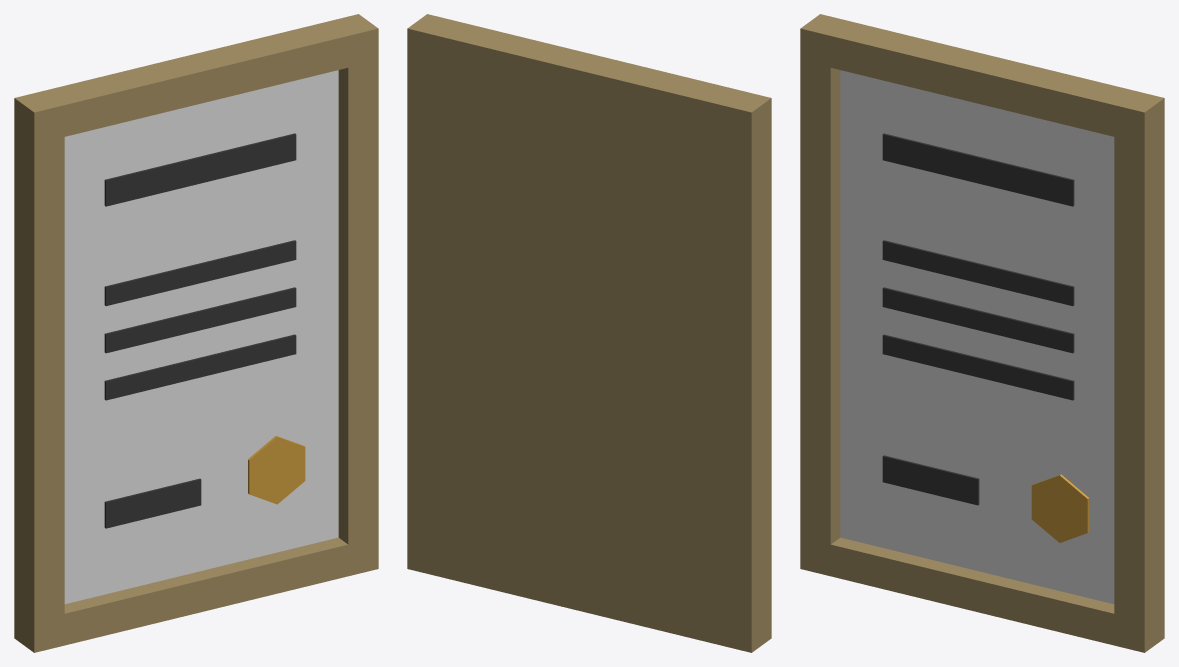
The model's file is Reward_01.fbx.
3 renders of one model, left to right at view 1: azimuth 30°, elevation 25°; view 2: azimuth 150°, elevation 25°; view 3: azimuth 330°, elevation 25°, orthographic.
Parts seen in each view (by area): view 1: Reward_01; view 2: Reward_01; view 3: Reward_01.
Part boxes in pixels (x1,y1,x2,y2): Reward_01: (14, 14, 378, 652); Reward_01: (407, 14, 771, 652); Reward_01: (800, 14, 1164, 652).
Size of the model in its own units: 20 by 30 by 2.
